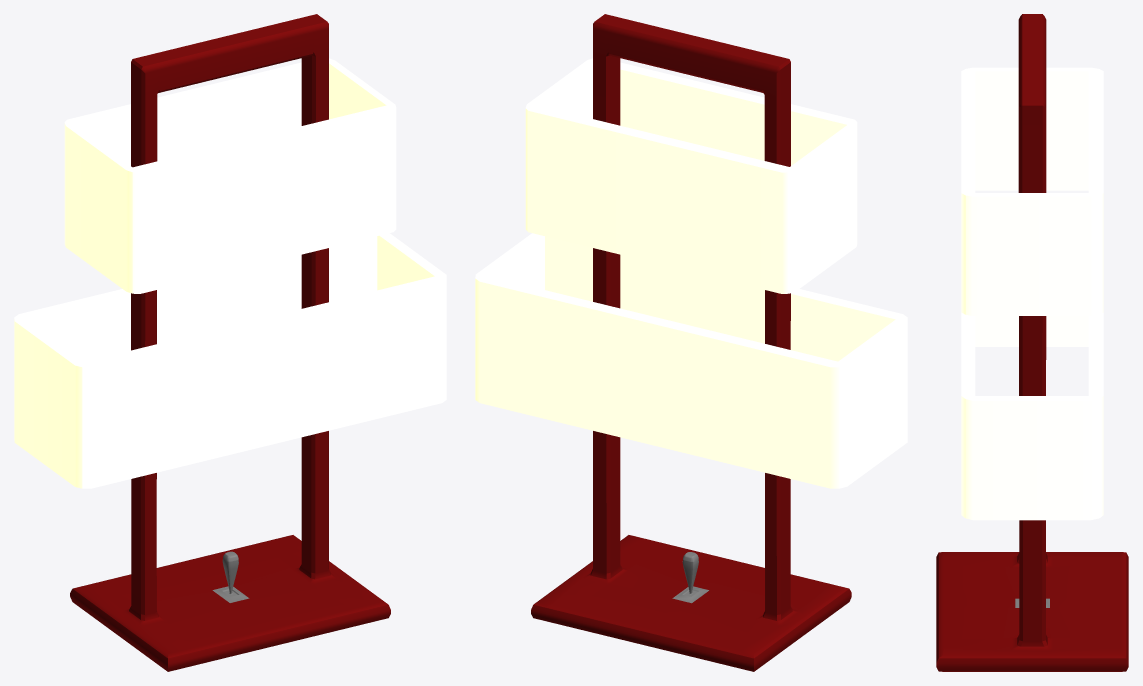
The model's file is deskLamp.fbx.
3 renders of one model, left to right at view 1: azimuth 30°, elevation 25°; view 2: azimuth 150°, elevation 25°; view 3: azimuth 270°, elevation 25°, orthographic.
Parts seen in each view (by area): view 1: pCube6, pCube4, pCube3; view 2: pCube6, pCube4, pCube3; view 3: pCube4, pCube3, pCube6.
Boxes of the visible parts, x1,y1,x2,y2 form: pCube6: (14, 233, 446, 488); pCube4: (64, 58, 396, 293); pCube3: (70, 14, 390, 671); pCube6: (475, 233, 907, 488); pCube4: (525, 58, 857, 293); pCube3: (531, 14, 851, 671); pCube4: (961, 67, 1103, 315); pCube3: (936, 14, 1128, 671); pCube6: (961, 312, 1103, 520).
Size of the model in its own units: 40.99 by 60.28 by 18.67.
